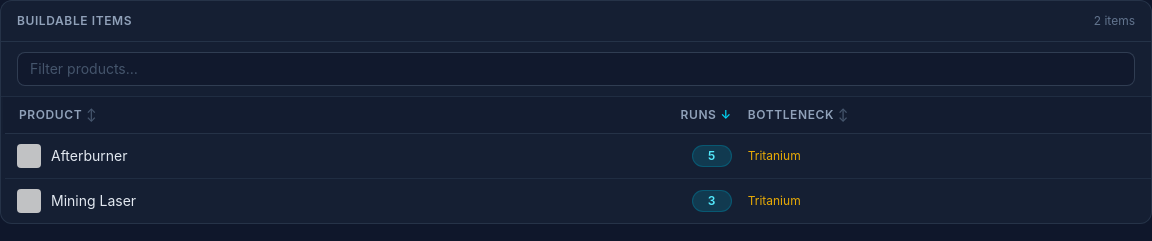
it: BuildableTable › shows empty filter state when no items match
The width and height of the screenshot is (1152, 241).
Type "zzznothing" into the field named "Filter by product name" at (576, 69), box [17,52,1135,86]
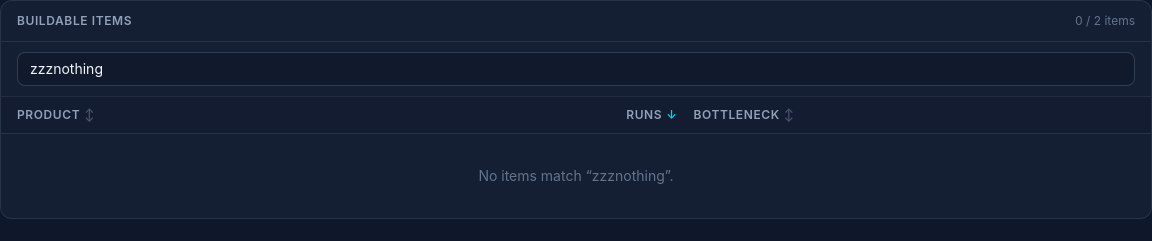
Now the text "No items match “zzznothing”." is shown, box [1,134,1151,218]
